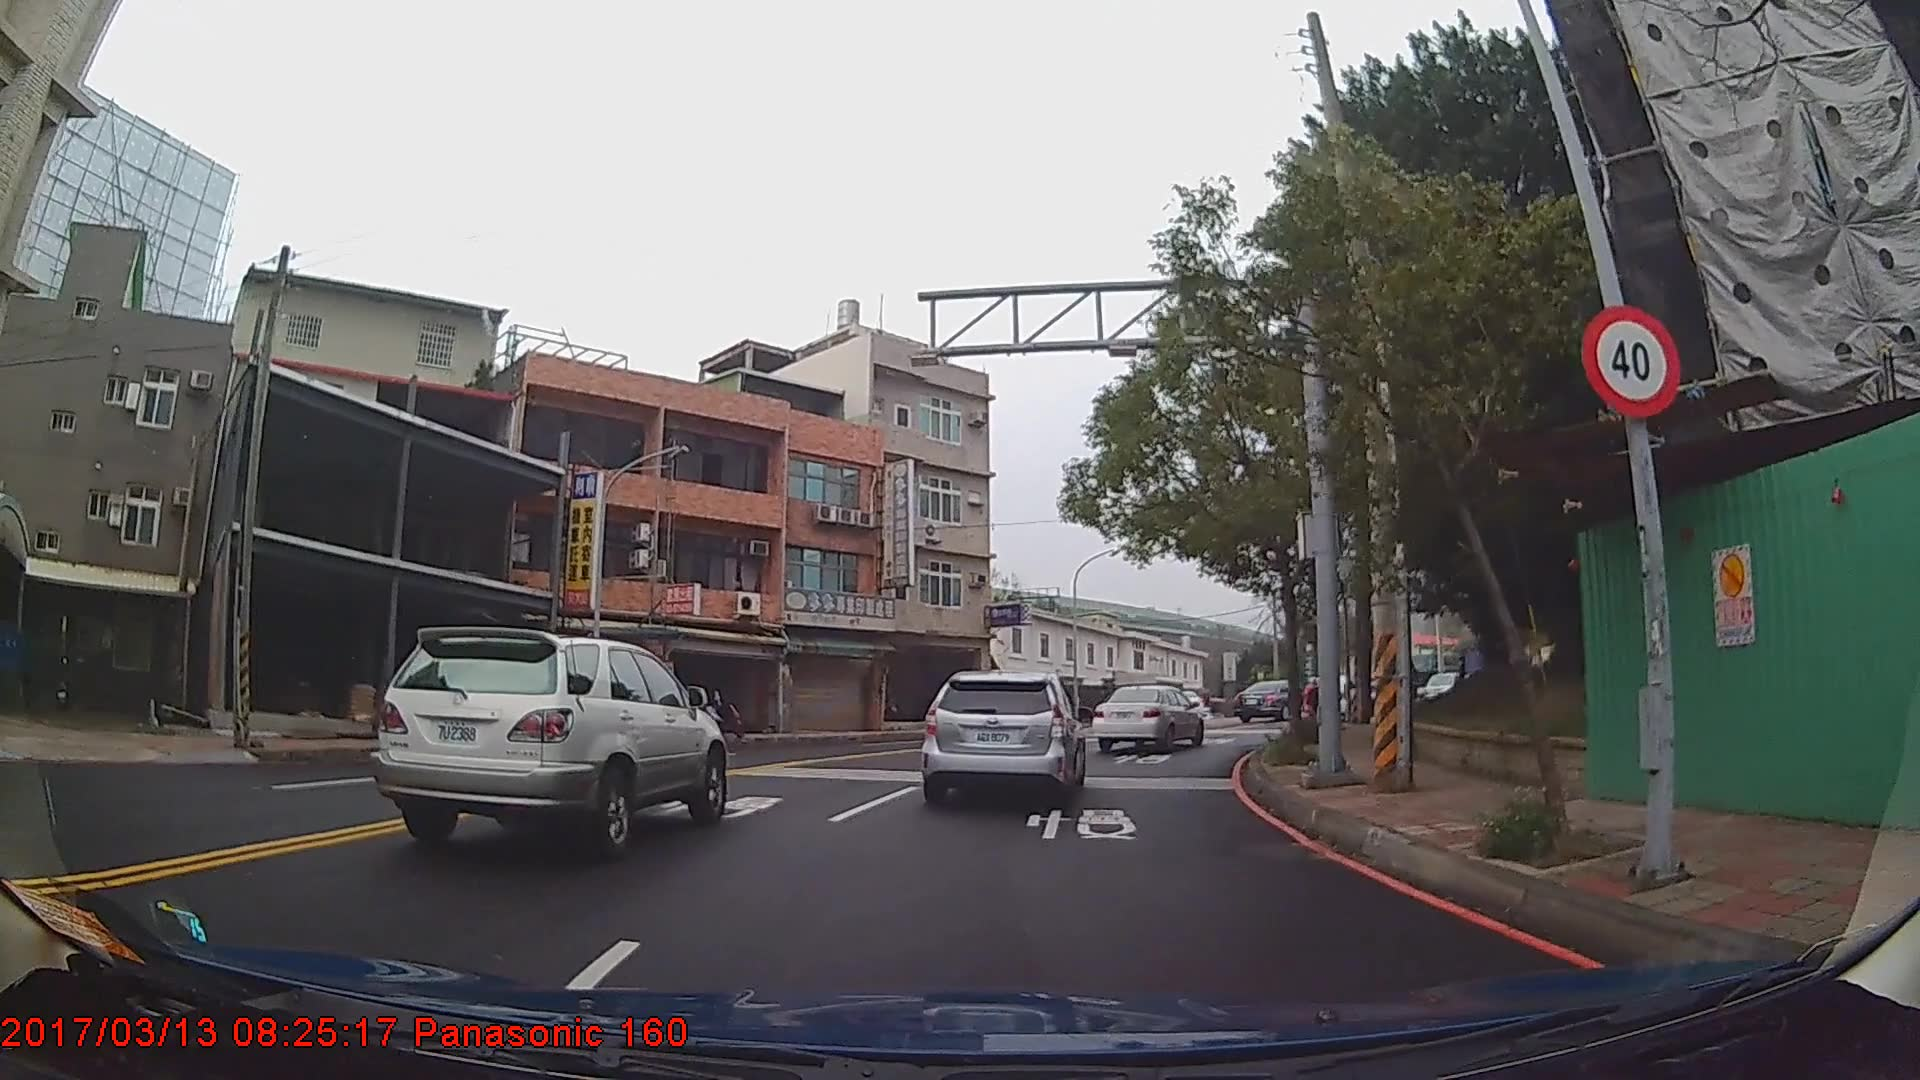vehicle: (367, 625, 728, 858), (920, 669, 1087, 806), (1091, 684, 1207, 752), (1232, 678, 1308, 723)
